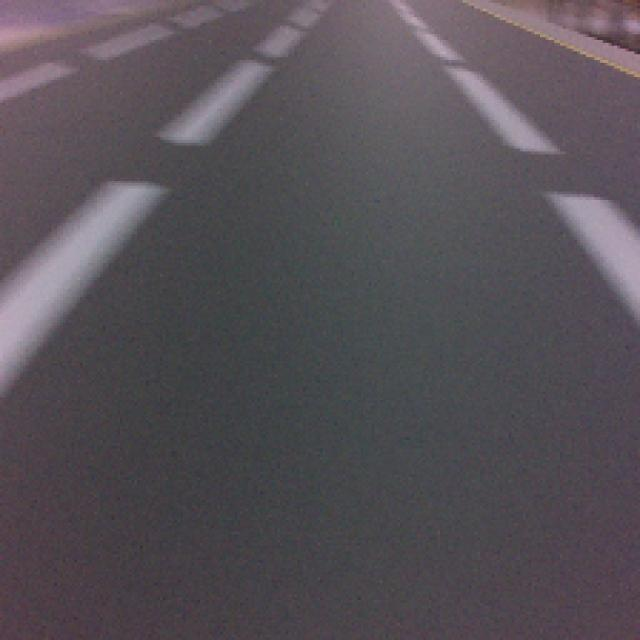Road: (0, 265, 640, 640)
